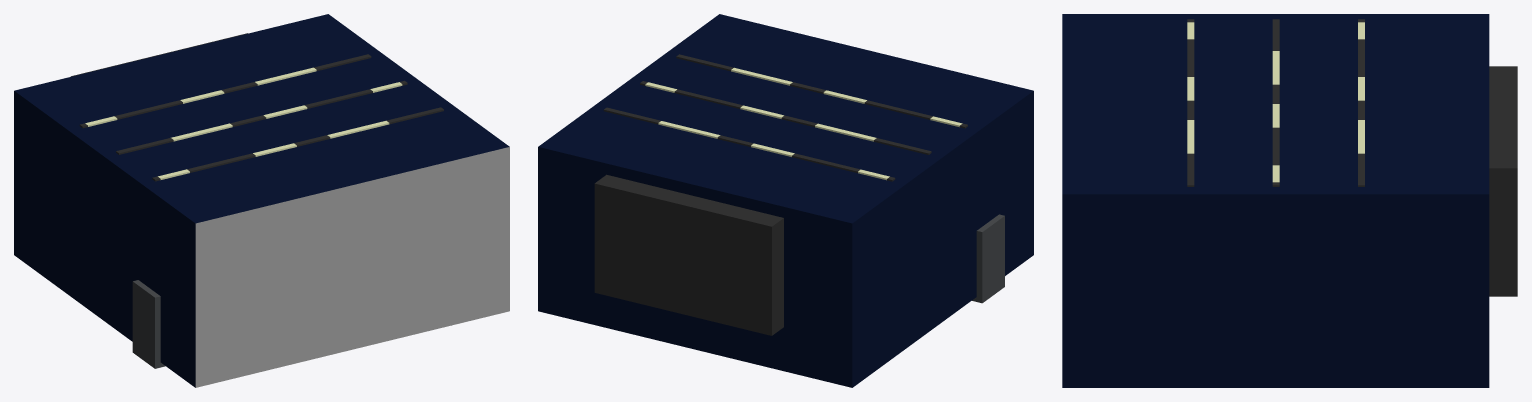
Rendered from ControlRoom1.fbx.
3 renders of one model, left to right at view 1: azimuth 30°, elevation 25°; view 2: azimuth 150°, elevation 25°; view 3: azimuth 270°, elevation 25°, orthographic. The views are drawn at different scales.
Visible parts, largest first — view 1: Roof_Top, Wall_Back, Wall_Left, Doorway, CeilingL3, CeilingL1, CeilingL2; view 2: Roof_Top, Wall_Computer, Wall_Left, Screen, Doorway, CeilingL3, CeilingL1, CeilingL2; view 3: Wall_Right, Roof_Top, Screen, CeilingL2, CeilingL3, CeilingL1.
Part boxes in pixels (<box>): Roof_Top: <box>14,14,509,223</box>; Wall_Back: <box>195,147,509,387</box>; Wall_Left: <box>14,91,195,387</box>; Doorway: <box>132,280,165,368</box>; CeilingL3: <box>152,107,443,181</box>; CeilingL1: <box>79,54,371,128</box>; CeilingL2: <box>116,80,407,154</box>; Roof_Top: <box>538,14,1033,223</box>; Wall_Computer: <box>538,147,852,387</box>; Wall_Left: <box>852,91,1033,387</box>; Screen: <box>594,174,783,335</box>; Doorway: <box>972,214,1004,303</box>; CeilingL3: <box>676,54,967,128</box>; CeilingL1: <box>603,107,895,181</box>; CeilingL2: <box>640,81,931,154</box>; Wall_Right: <box>1062,194,1489,387</box>; Roof_Top: <box>1062,14,1489,194</box>; Screen: <box>1489,66,1517,296</box>; CeilingL2: <box>1272,19,1279,186</box>; CeilingL3: <box>1187,19,1194,186</box>; CeilingL1: <box>1358,19,1364,186</box>.
Size of the model in its own units: 30.55 by 15.6 by 31.98.
